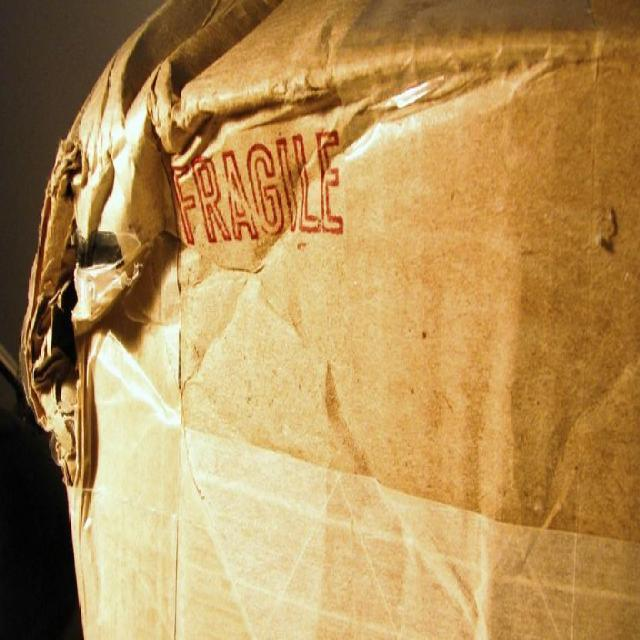damaged: (32, 205, 131, 476)
